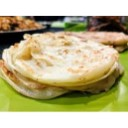parota: (19, 34, 117, 84)
